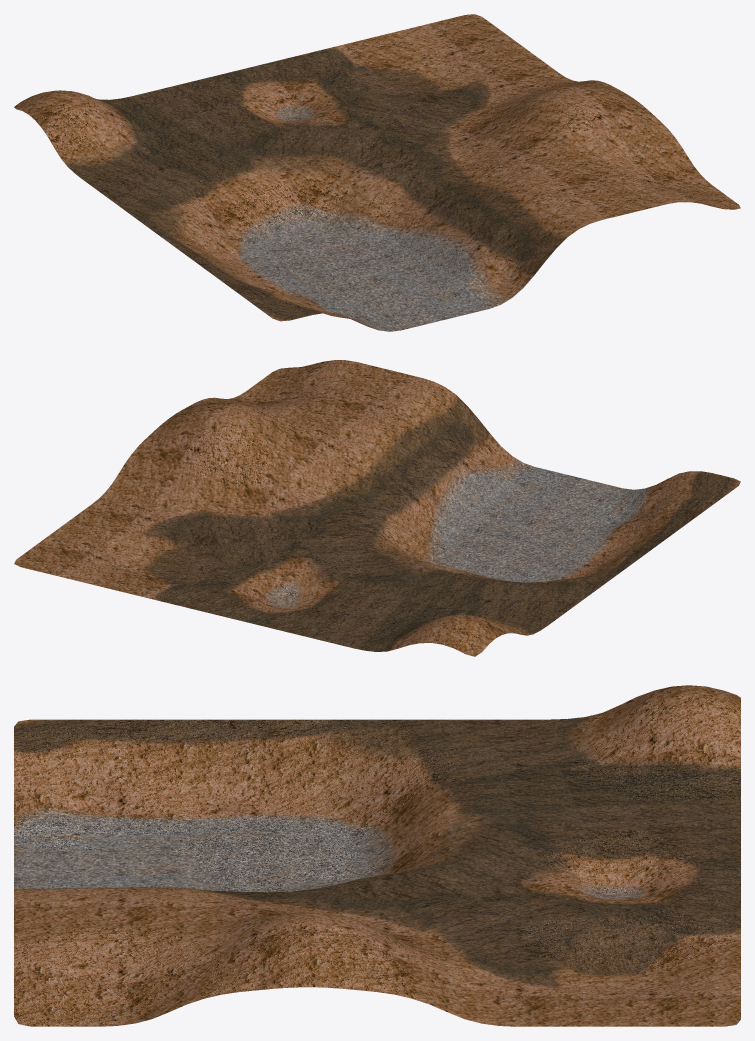
The model's file is kuuplants1.obj.
3 views of the same model, one above another, from view 1: azimuth 30°, elevation 25°; view 2: azimuth 150°, elevation 25°; view 3: azimuth 270°, elevation 25° (orthographic). The views are drawn at different scales.
Parts seen in each view (by area): view 1: Plane, Plane.001; view 2: Plane, Plane.001; view 3: Plane, Plane.001.
Part boxes in pixels (x1,y1,x2,y2): Plane: (14,14,740,331); Plane.001: (133,132,439,281); Plane: (14,360,740,656); Plane.001: (322,491,627,604); Plane: (14,685,740,1026); Plane.001: (239,741,498,892).
Size of the model in its own units: 1.02 by 0.1806 by 1.02.
Materials: 1 (1 with a texture image).
